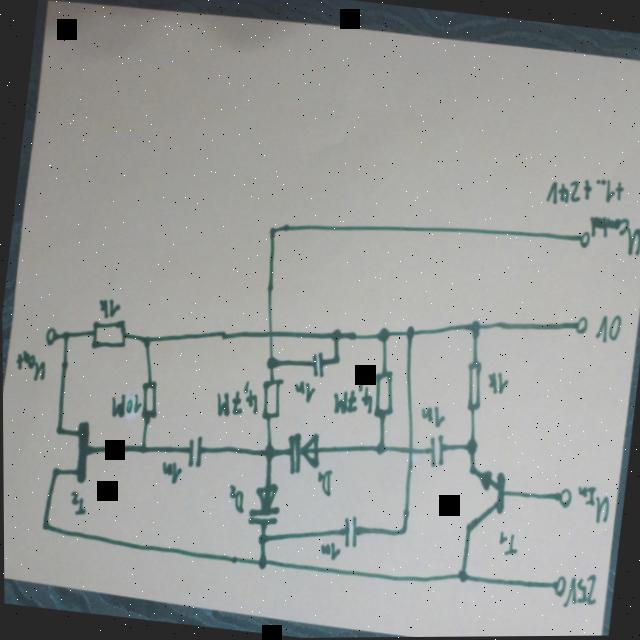capacitor: (422, 432, 448, 471), (182, 432, 205, 471), (338, 515, 360, 550), (306, 350, 326, 380)
crossover: (403, 443, 415, 458), (264, 327, 275, 340)
diode: (281, 429, 321, 479), (245, 481, 282, 528)
junction: (462, 436, 478, 458), (374, 325, 390, 345), (467, 319, 481, 340), (261, 443, 275, 463), (262, 354, 278, 371), (254, 553, 268, 571), (328, 328, 343, 344), (453, 567, 467, 584), (373, 441, 387, 457), (139, 334, 153, 349), (254, 531, 267, 547), (403, 325, 415, 341), (38, 517, 50, 533), (329, 353, 341, 368), (136, 441, 148, 456), (266, 224, 276, 239), (397, 524, 407, 537), (60, 329, 69, 342)
resistor: (88, 315, 128, 353), (368, 368, 397, 420), (460, 357, 486, 415), (256, 376, 283, 423), (135, 378, 160, 422)
terminal: (553, 487, 572, 511), (41, 324, 59, 348), (550, 574, 566, 598), (572, 315, 589, 337), (575, 231, 590, 250)
text: (543, 170, 625, 214), (584, 213, 640, 258), (212, 377, 260, 421), (570, 482, 612, 527), (330, 377, 374, 419), (561, 571, 598, 613), (12, 347, 48, 382), (593, 312, 623, 348), (108, 389, 142, 420), (415, 403, 446, 431), (158, 458, 183, 486), (494, 530, 519, 558), (224, 483, 246, 514), (291, 378, 316, 405), (483, 370, 508, 397), (95, 296, 120, 321), (66, 490, 88, 518), (313, 467, 332, 497), (317, 540, 341, 562)
transistor: (459, 465, 509, 538), (45, 415, 93, 486)
